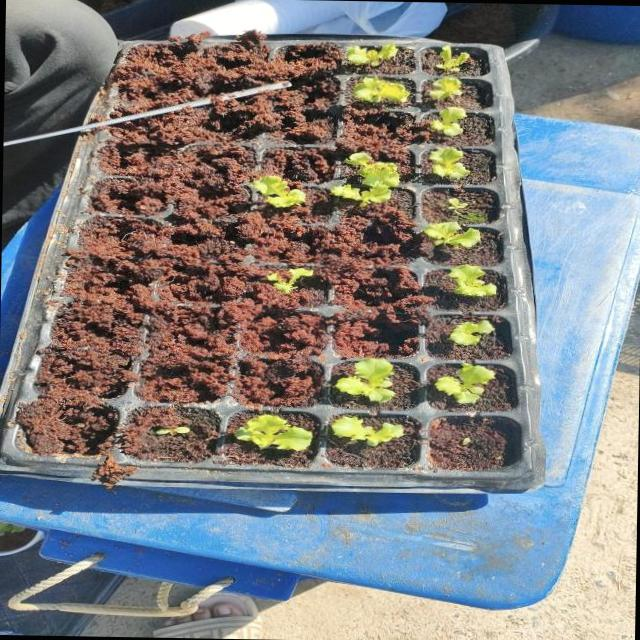Lettuce-Not-Ready-to-Harvest: (234, 414, 312, 451), (335, 358, 395, 402), (328, 415, 404, 447), (435, 365, 494, 403), (344, 152, 399, 185), (251, 175, 305, 208), (449, 264, 496, 297), (354, 77, 410, 104), (424, 221, 479, 248), (429, 147, 470, 181), (346, 43, 398, 67), (266, 268, 313, 293), (428, 106, 467, 136), (330, 183, 390, 202), (449, 320, 494, 345), (435, 44, 469, 68), (430, 76, 461, 100), (446, 196, 468, 213), (155, 427, 190, 435)
